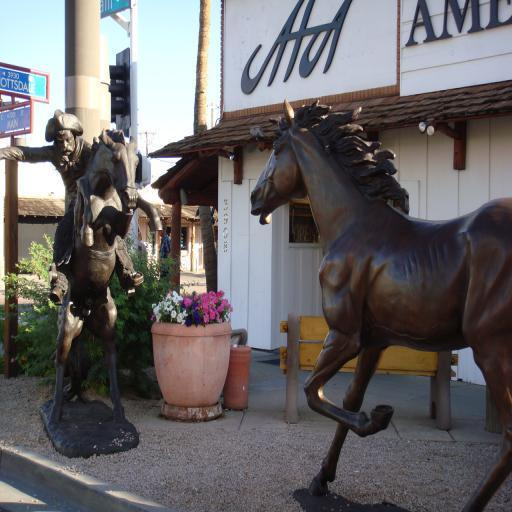horse: (251, 96, 512, 512), (48, 125, 163, 425)
